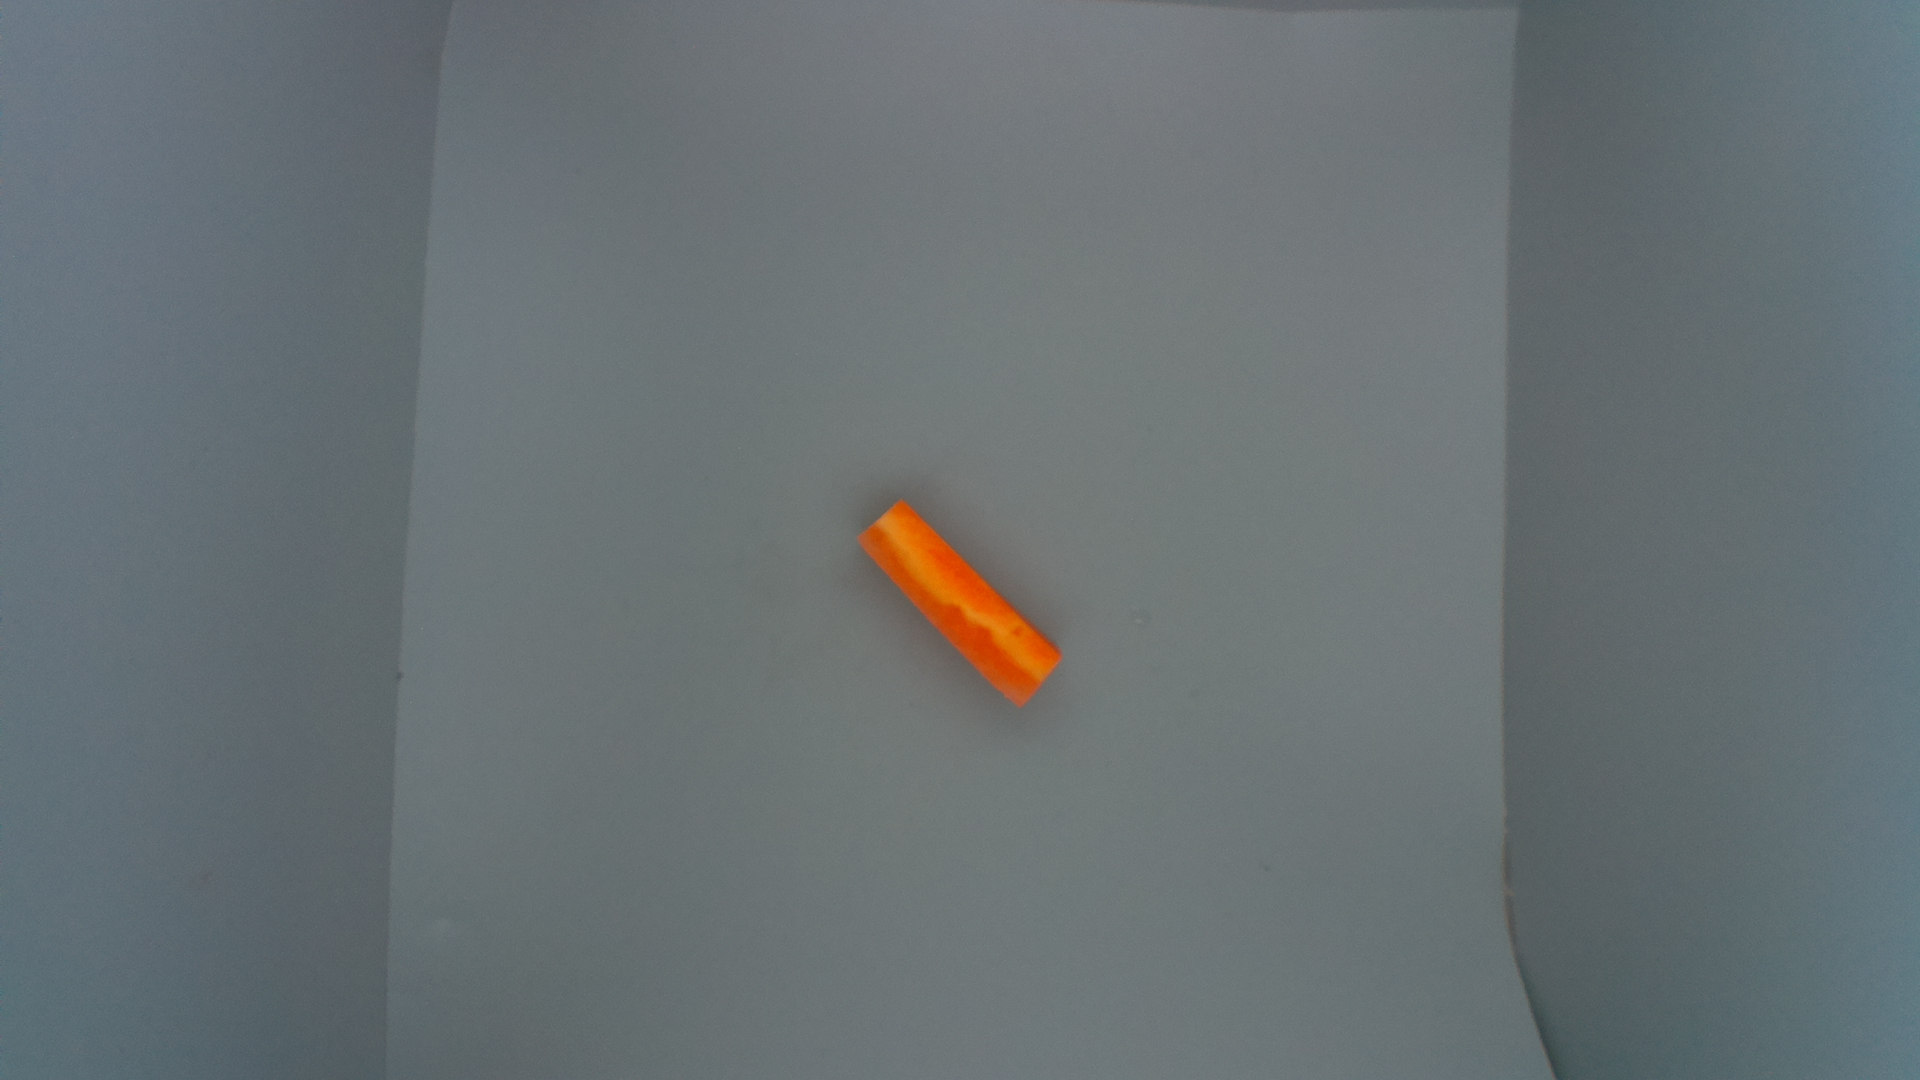carrot: (855, 493, 1073, 711)
